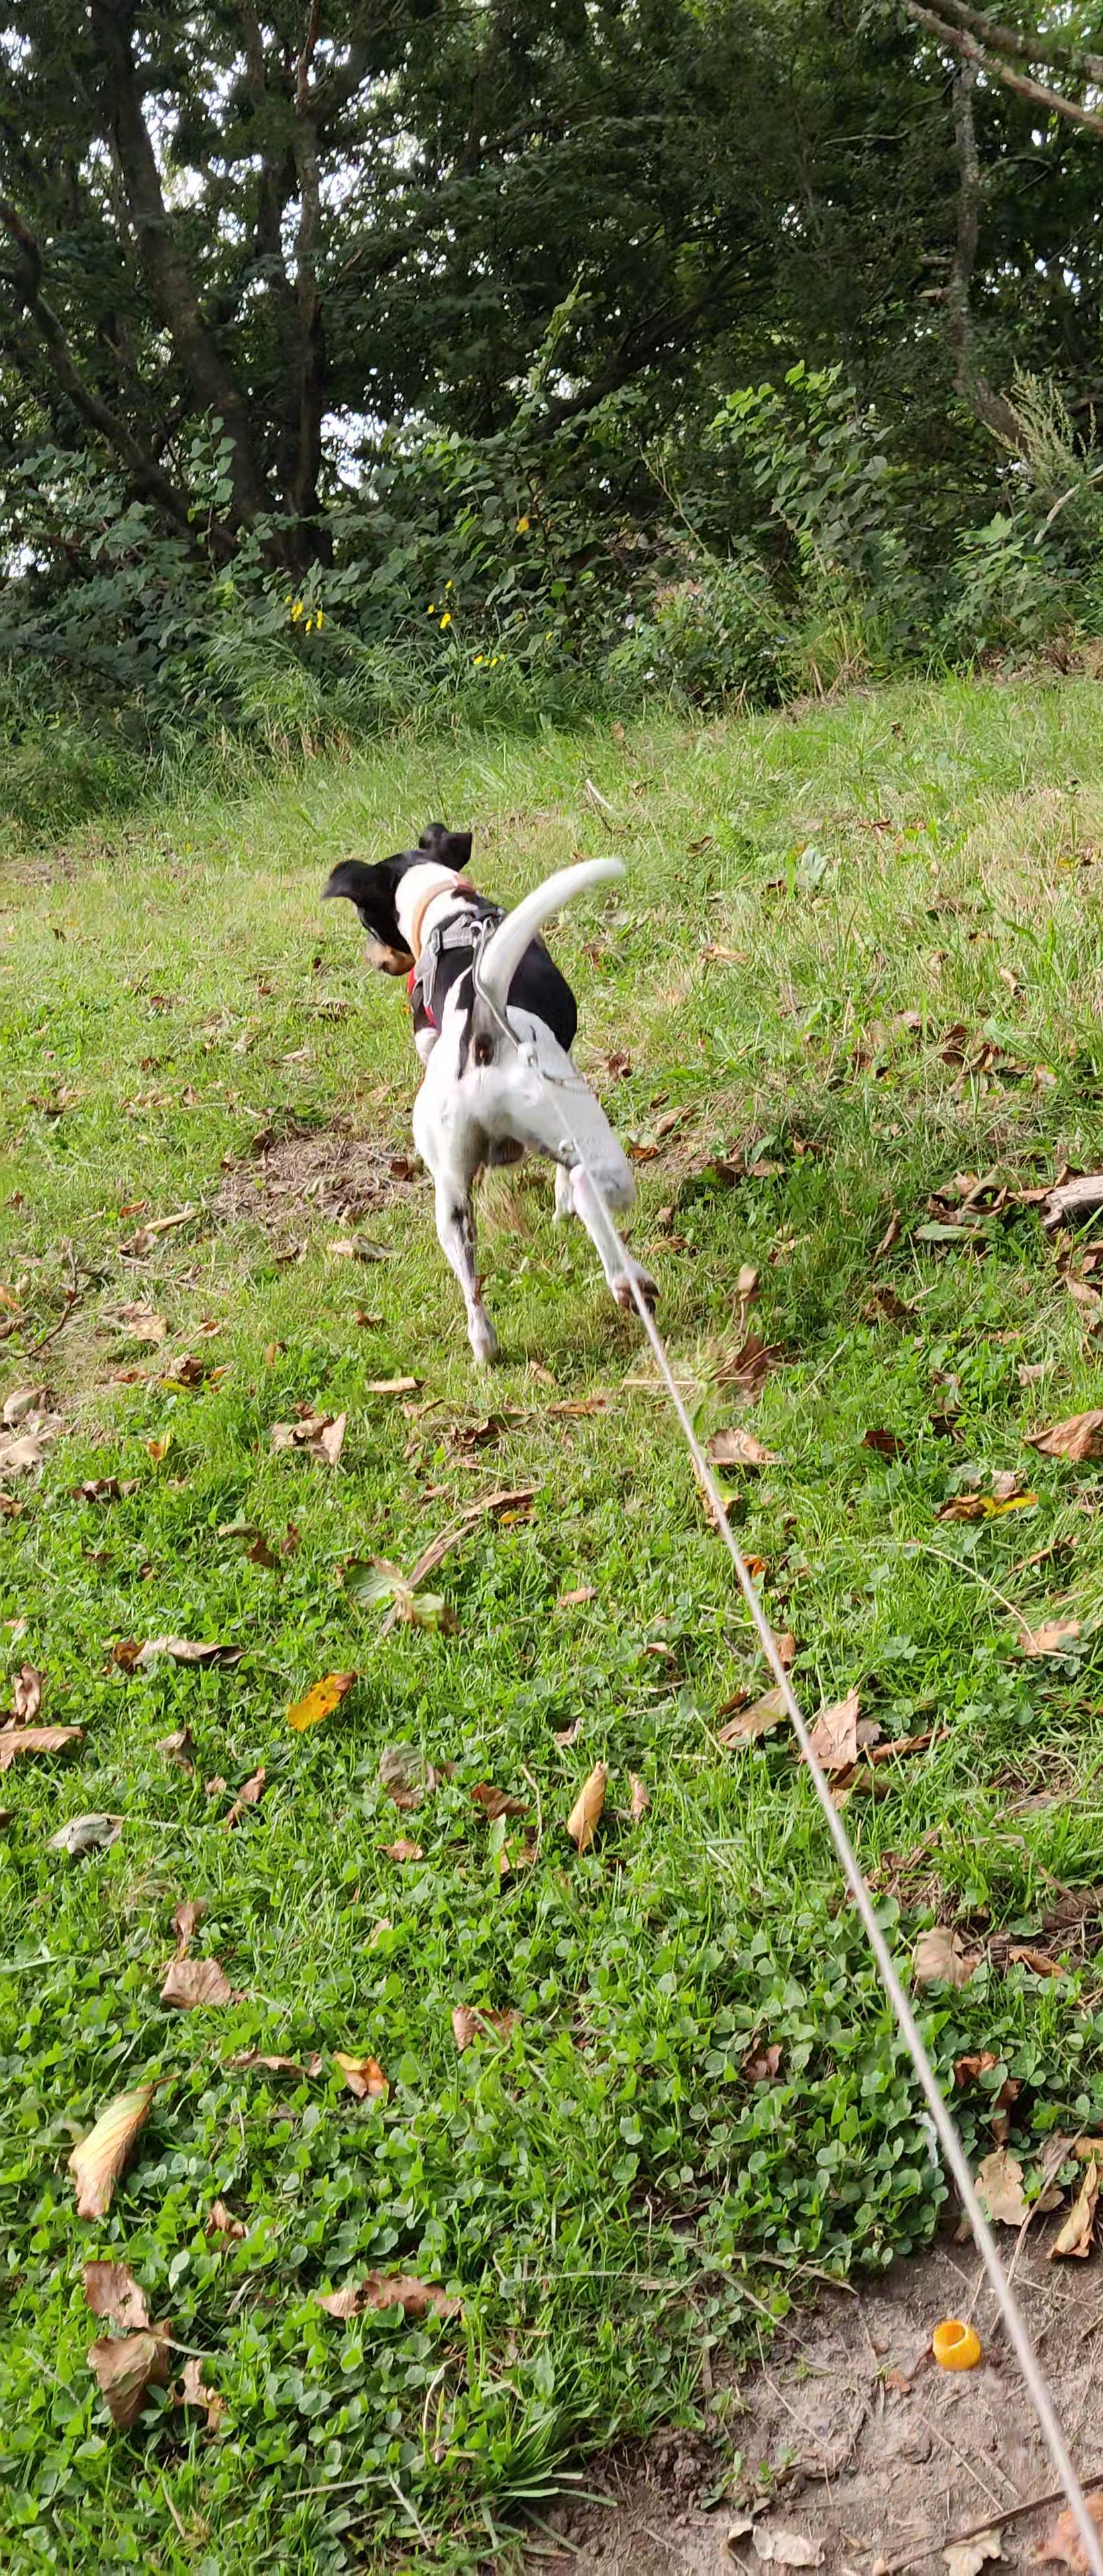Dog: (311, 815, 664, 1375)
